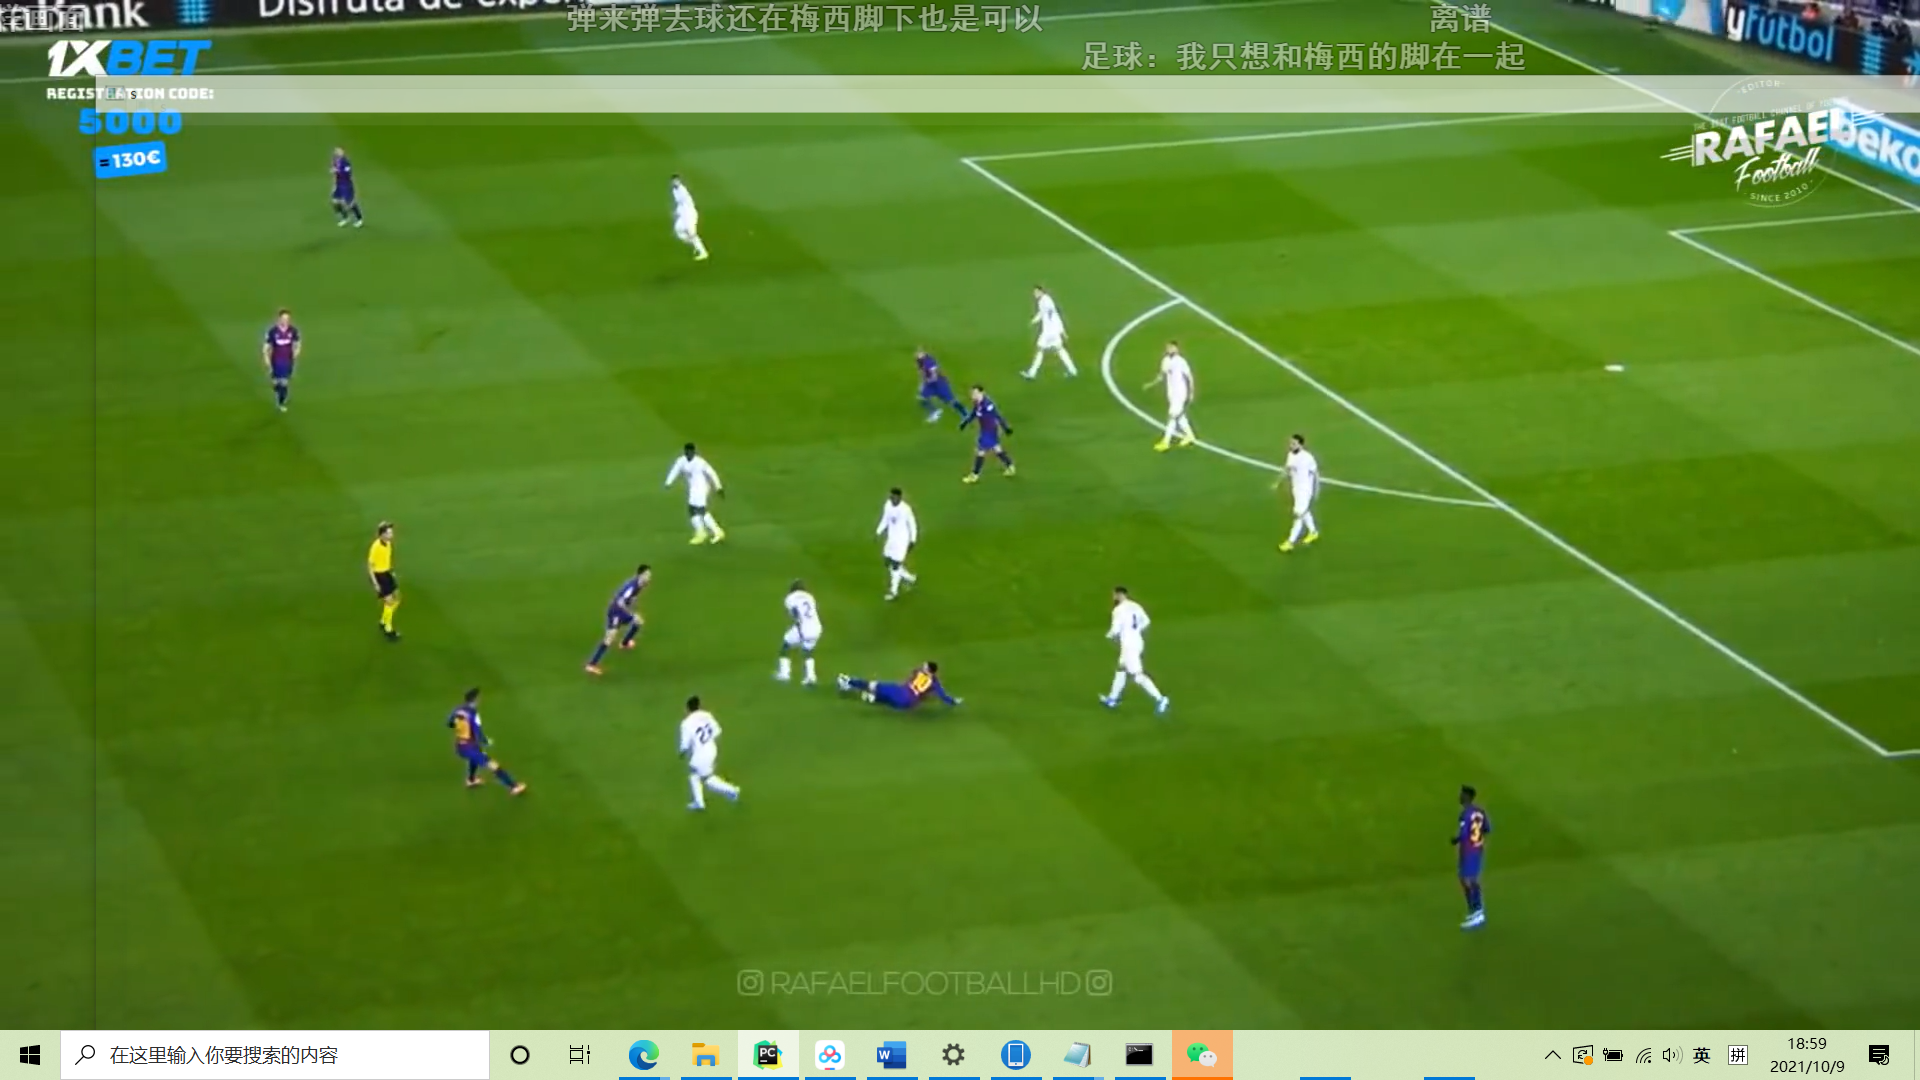ft: (833, 674, 852, 694)
